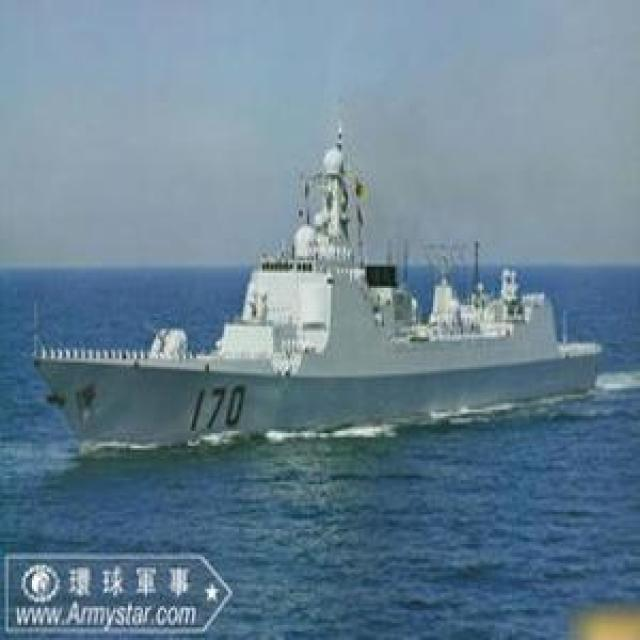navalvessels: (36, 113, 600, 437)
